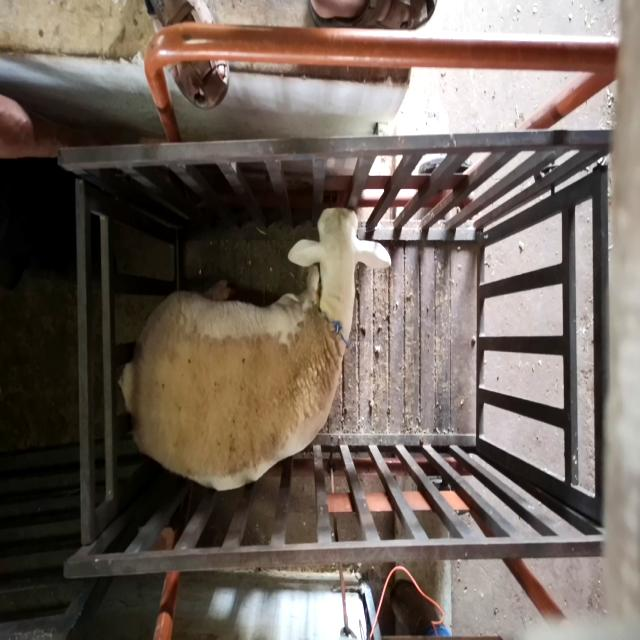sheep: (118, 206, 392, 491)
